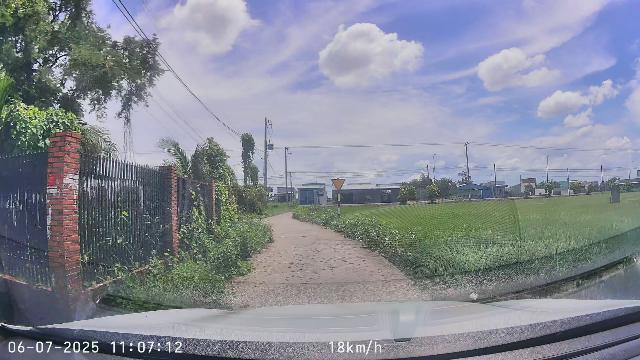208-giao-nhau-voi-duong-uu-tien: (331, 179, 346, 191)
